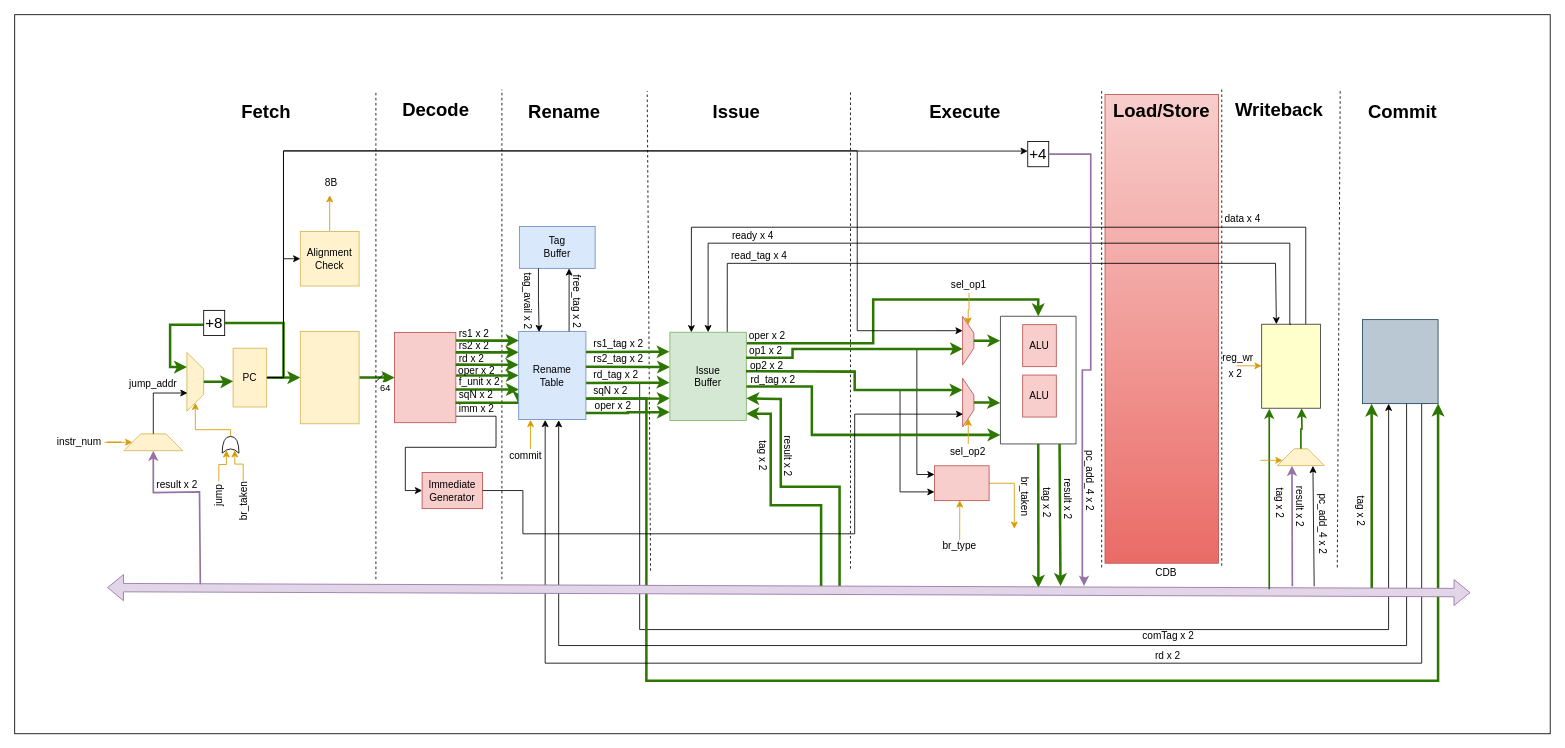
The diagram is 1565 pixels wide and 748 high, and some of its shapes have lost their labels. Each missing label, with the box of its shape:
Branch Condition: (934, 465, 989, 501)
Instruction Decoder: (394, 332, 456, 423)
Instruction Memory: (299, 331, 359, 424)
Register File: (1261, 323, 1320, 408)
Reorder Buffer: (1362, 319, 1438, 404)
